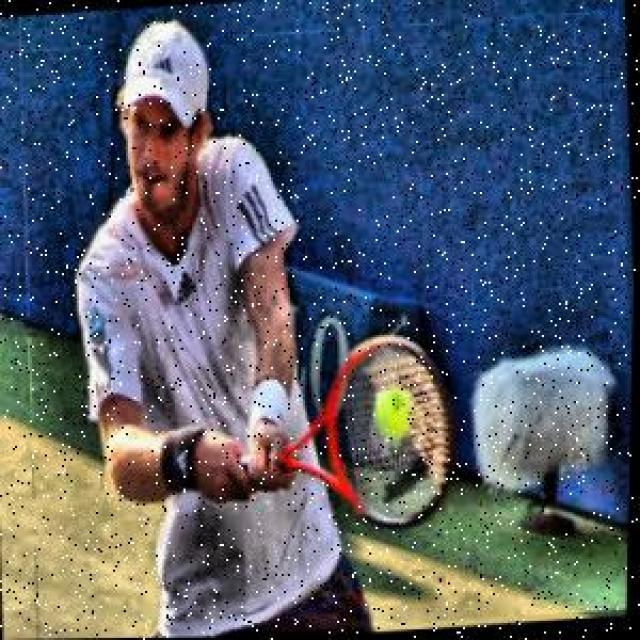tennis-ball: (370, 392, 417, 452)
